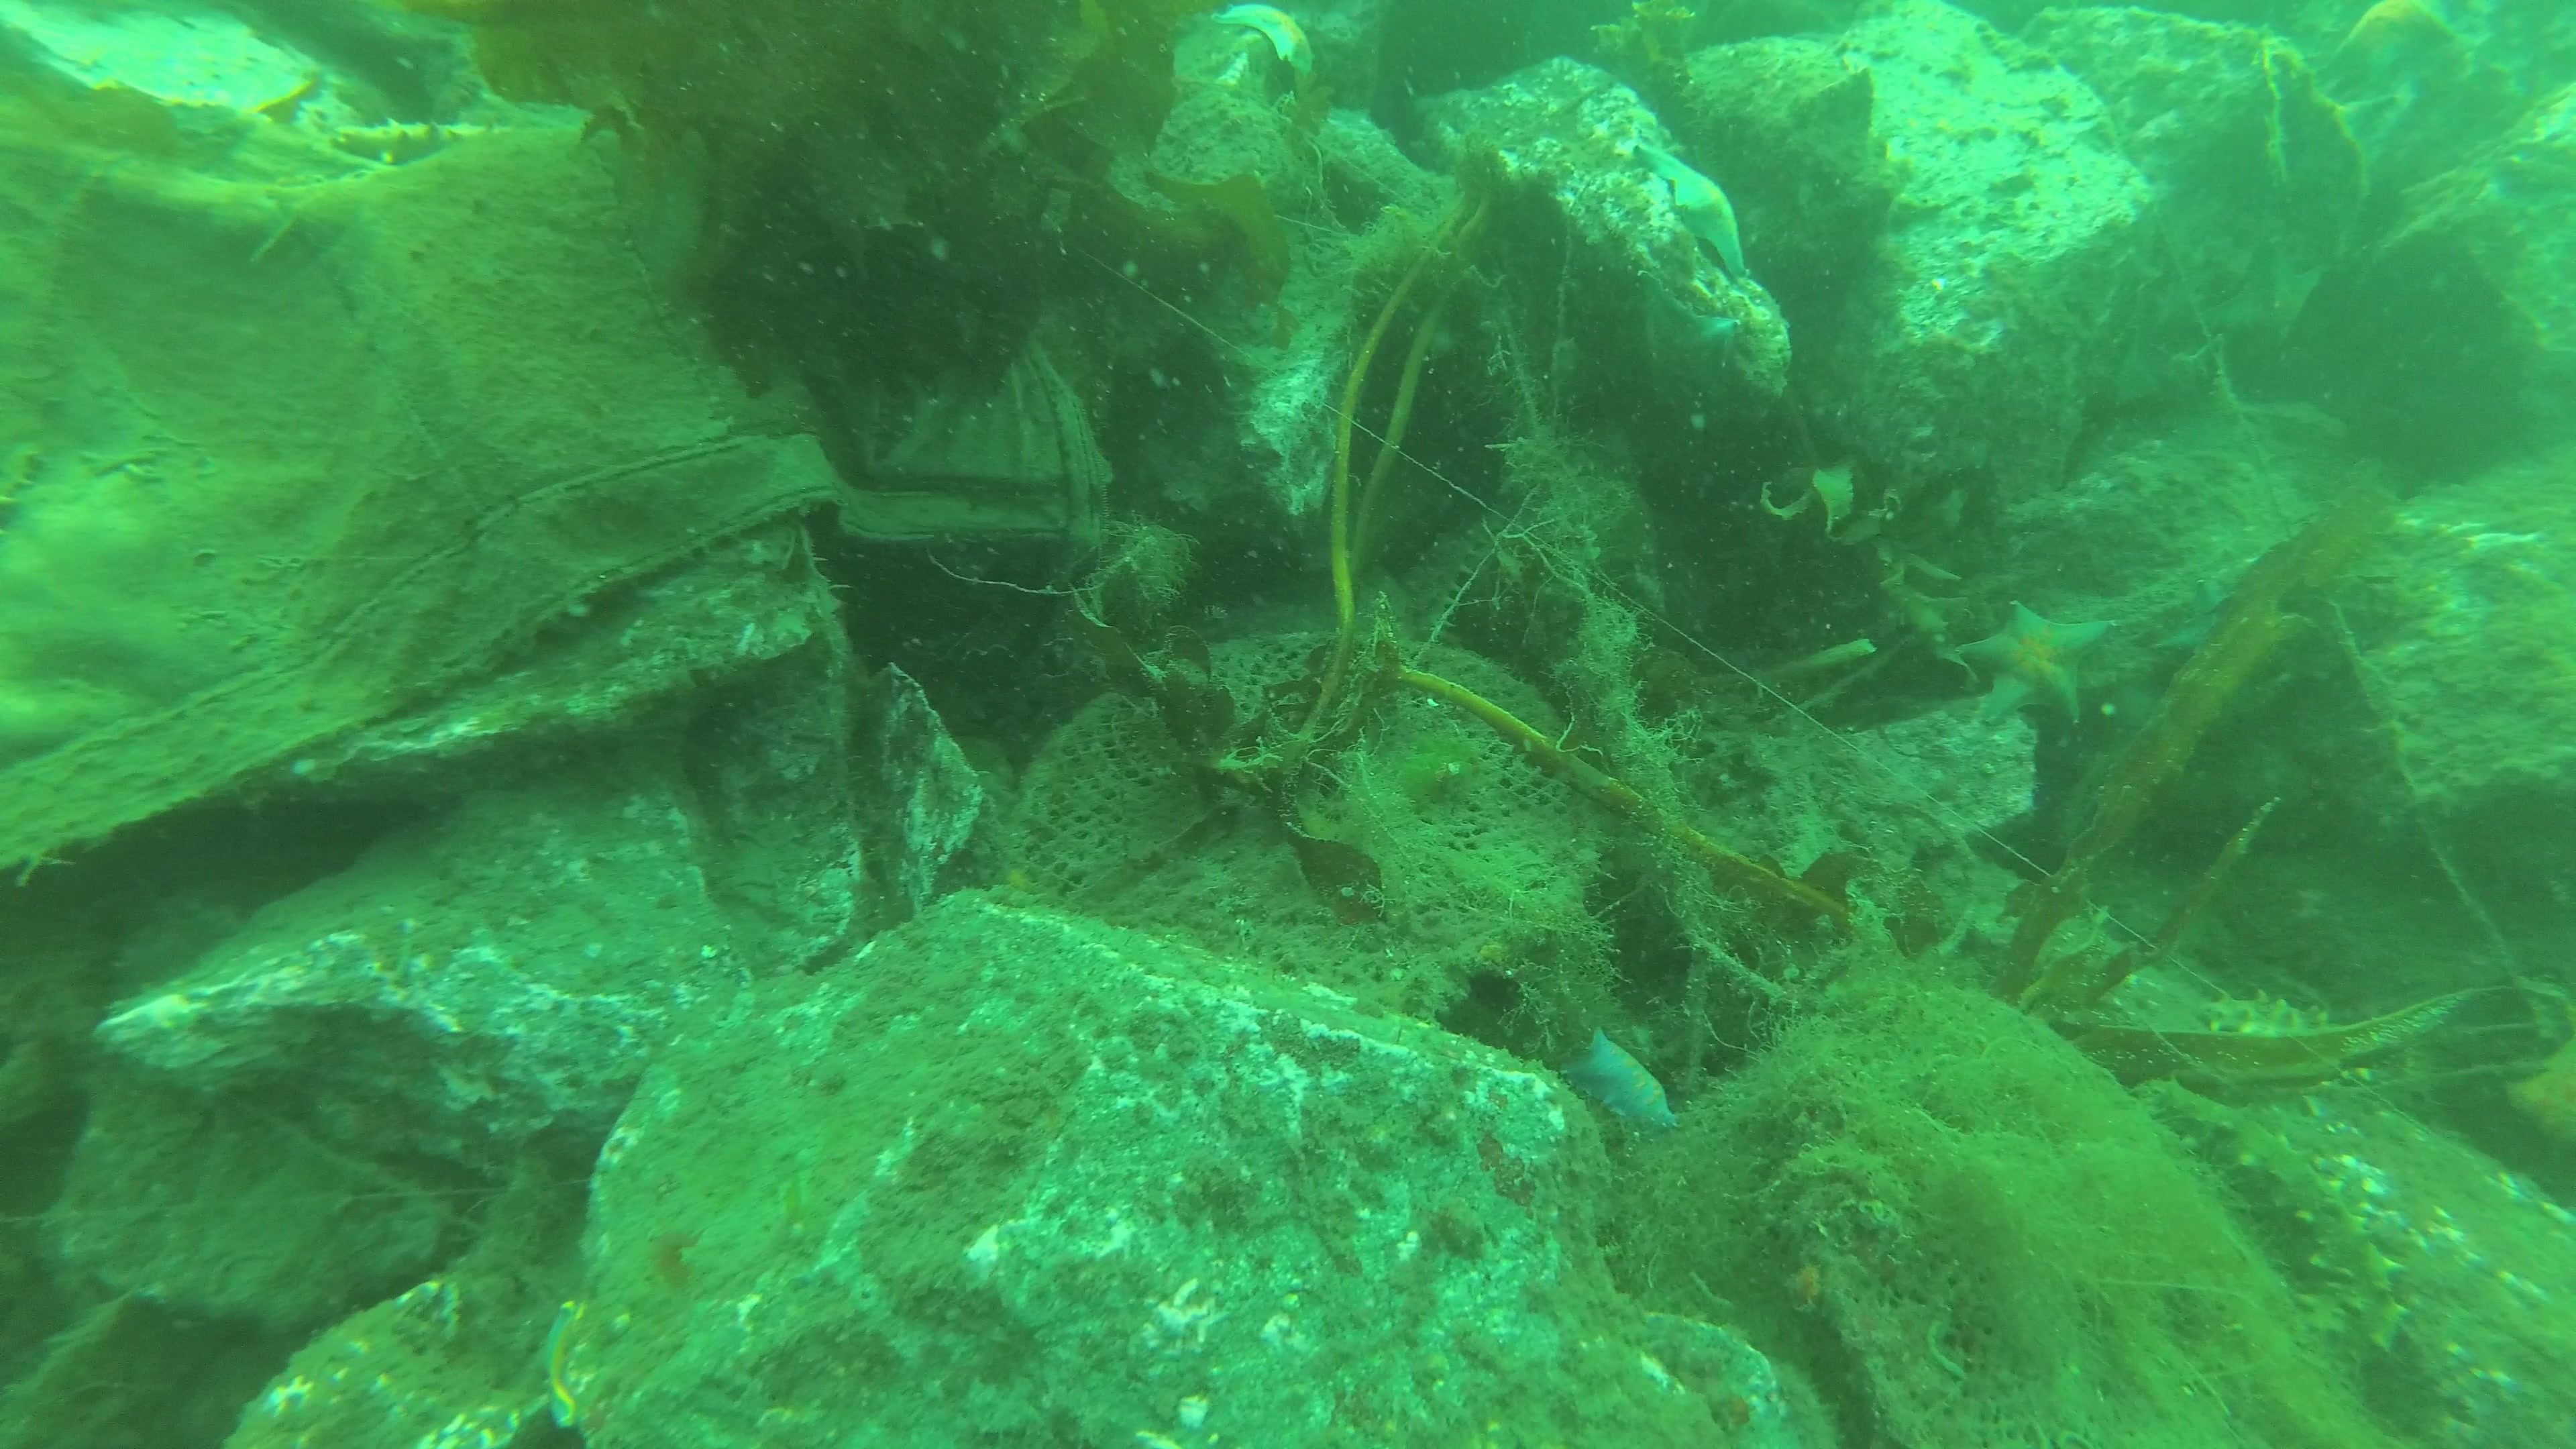holothurian: (2135, 1079, 2408, 1371), (2201, 991, 2378, 1086), (336, 119, 543, 165)
starfish: (1955, 596, 2118, 724), (2157, 575, 2300, 709), (1560, 1026, 1686, 1150), (545, 1297, 580, 1431)
